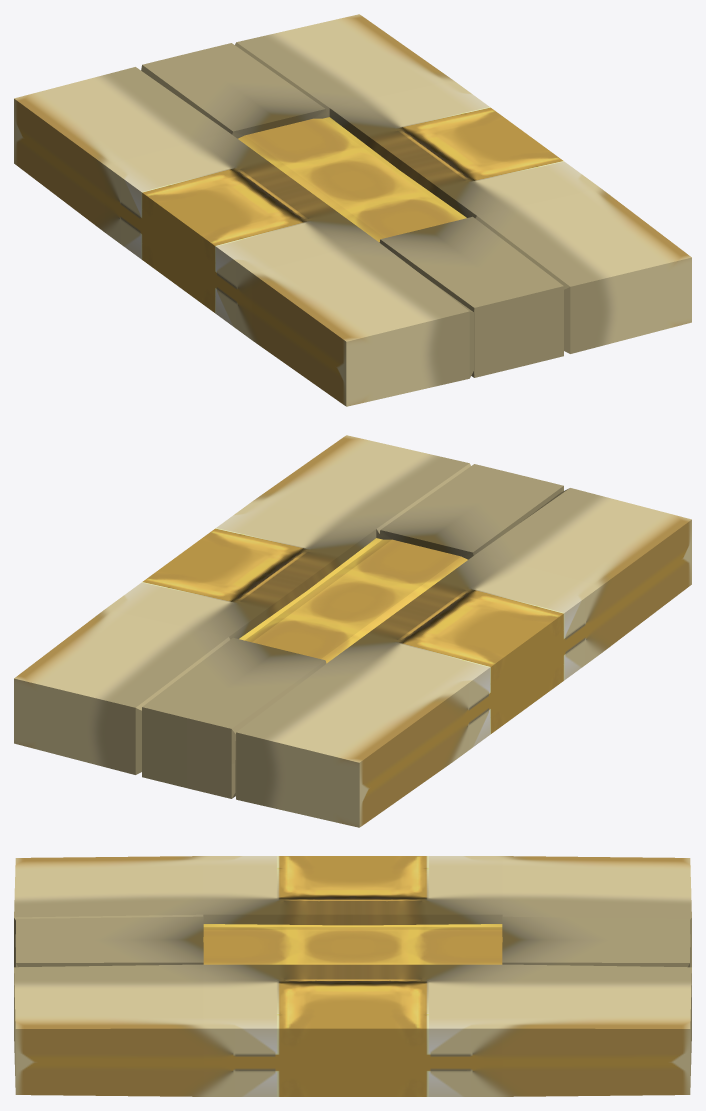
The model's file is R4YL_PROP_tile_platform_1,5.FBX.
3 renders of one model, top to bottom at view 1: azimuth 30°, elevation 25°; view 2: azimuth 150°, elevation 25°; view 3: azimuth 270°, elevation 25°, orthographic.
Visible parts, largest first — view 1: R4YL_PROP_tile_platform_1,5; view 2: R4YL_PROP_tile_platform_1,5; view 3: R4YL_PROP_tile_platform_1,5.
Part boxes in pixels (x1,y1,x2,y2): R4YL_PROP_tile_platform_1,5: (14, 14, 691, 406); R4YL_PROP_tile_platform_1,5: (14, 435, 691, 827); R4YL_PROP_tile_platform_1,5: (14, 856, 691, 1096).
Size of the model in its own units: 151 by 30 by 250.
